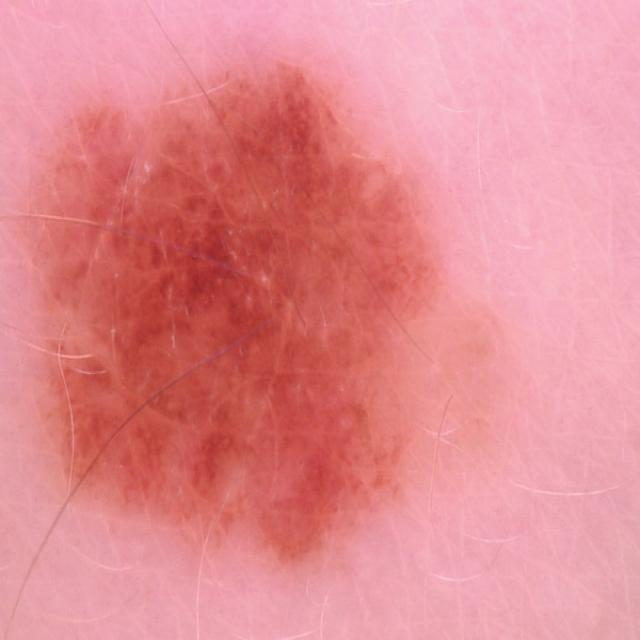NV: (10, 57, 515, 576)
